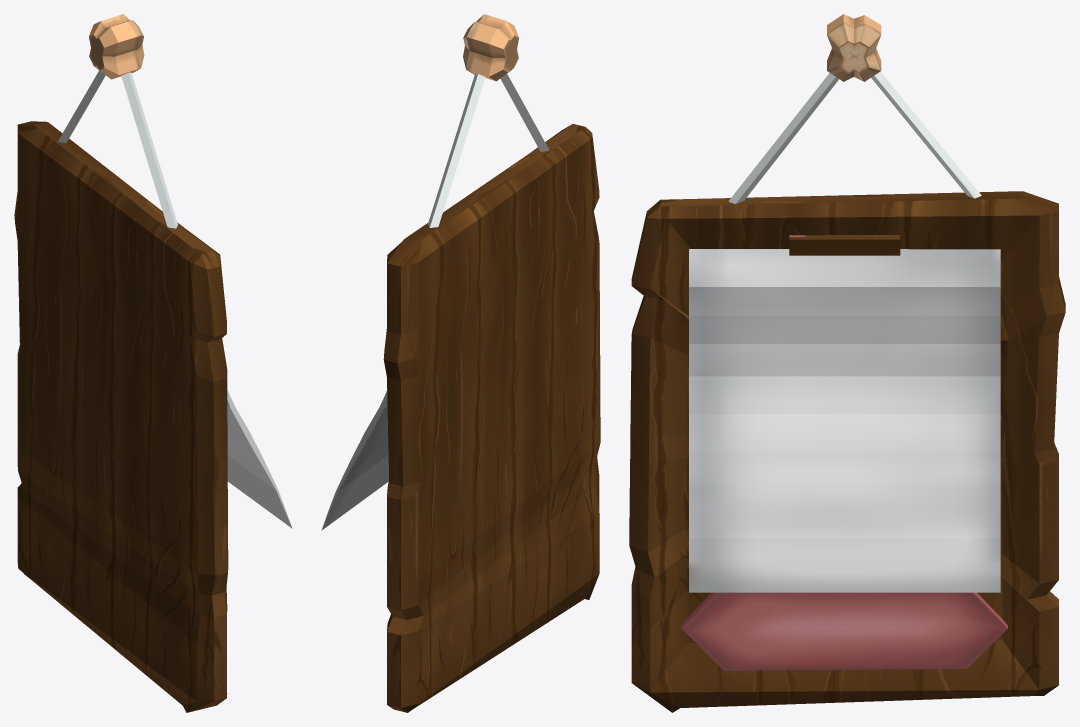
Rendered from CityKit_Moldure.fbx.
3 renders of one model, left to right at view 1: azimuth 30°, elevation 25°; view 2: azimuth 150°, elevation 25°; view 3: azimuth 270°, elevation 25°, orthographic. The views are drawn at different scales.
Visible parts, largest first — view 1: Moldure; view 2: Moldure; view 3: Moldure.
Part boxes in pixels (x1,y1,x2,y2): Moldure: (14,14,292,712); Moldure: (321,14,600,712); Moldure: (629,14,1065,712).
Size of the model in its own units: 73.67 by 369 by 213.
Materials: 1 (1 with a texture image).
